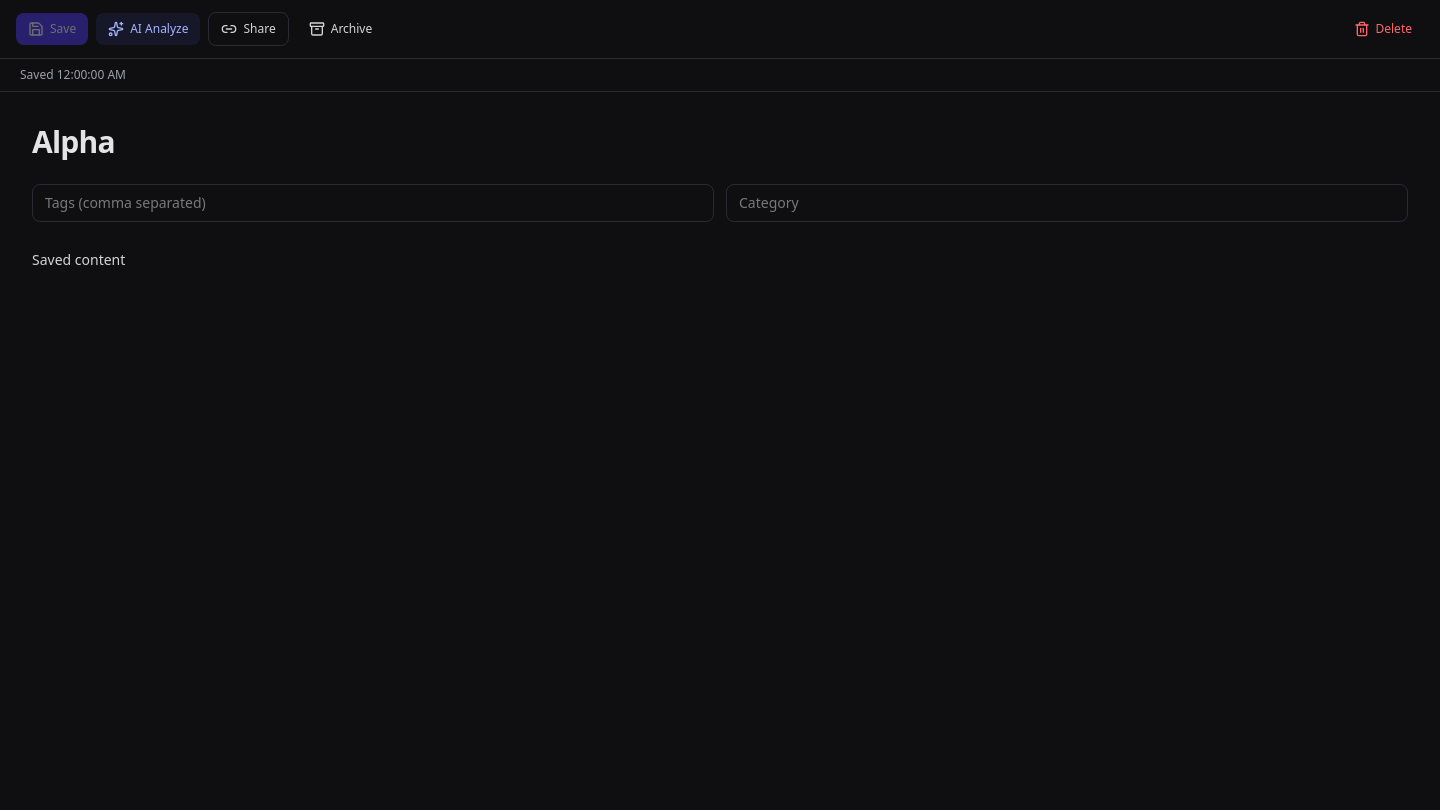
Test case: editor regression checks › keeps drafts and displays a failed save inline
The width and height of the screenshot is (1440, 810).
Replace the text in the text box named "Note content" with "Keep this draft" at (720, 426), box [32,246,1408,606]
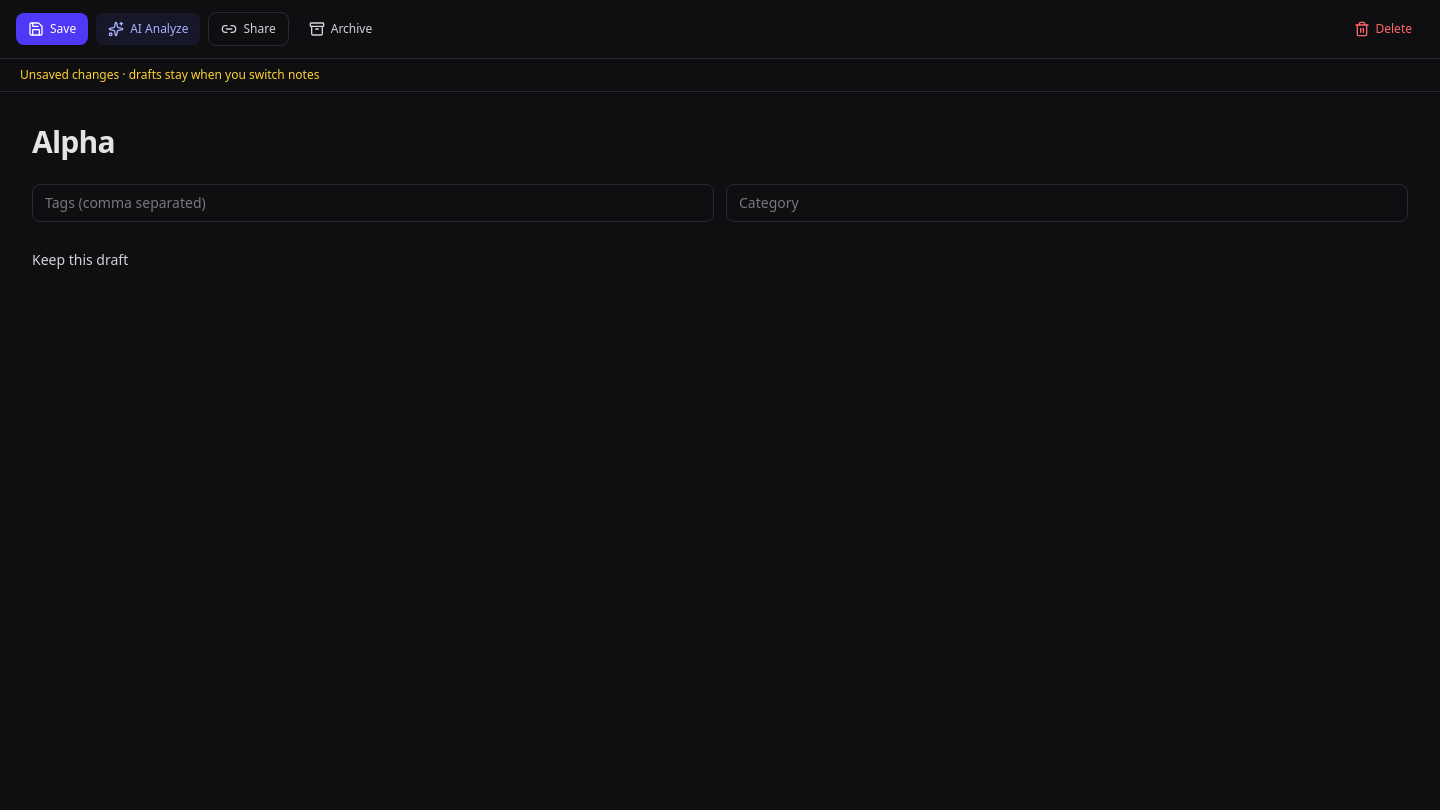
Click the button "Save".
click(52, 29)  # box [16,13,88,45]
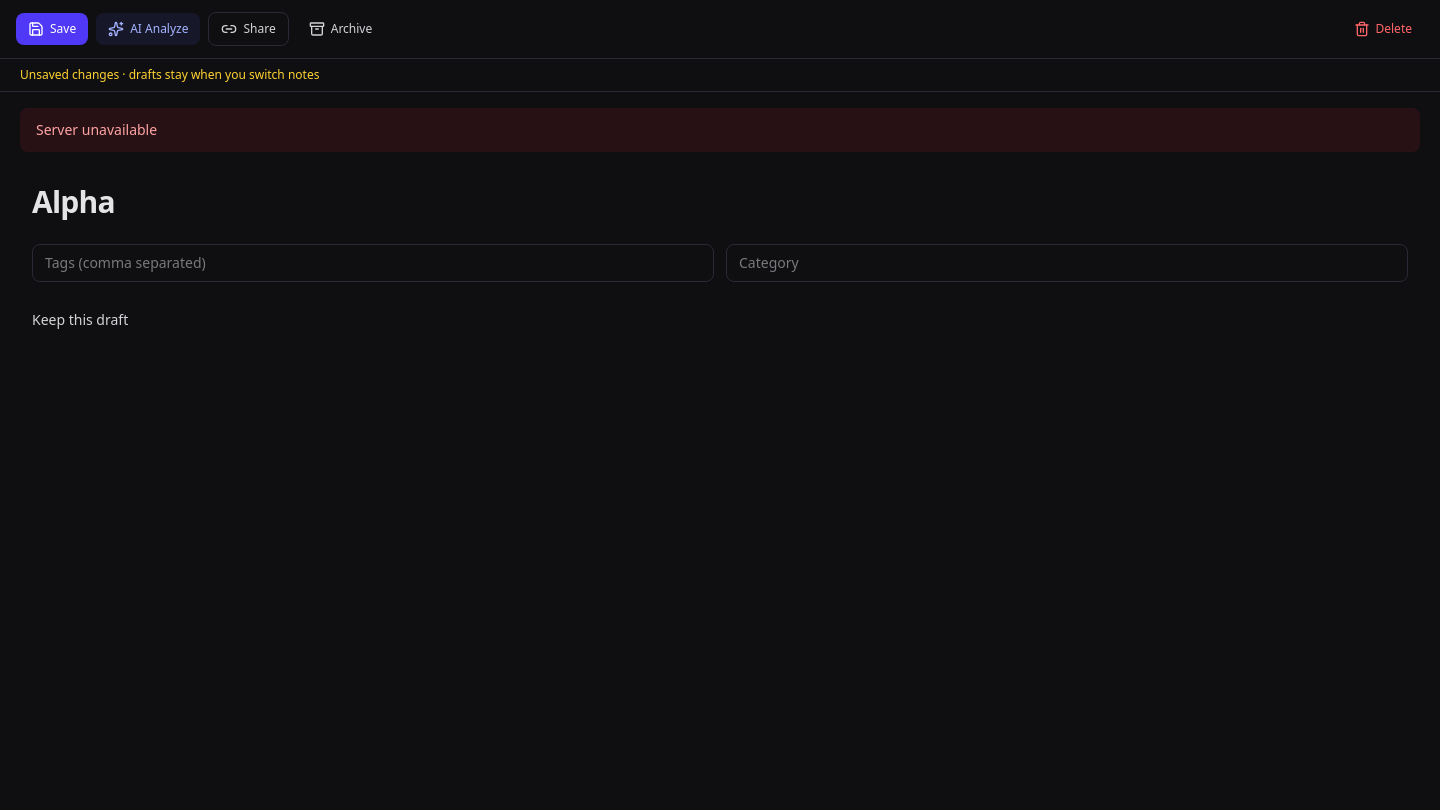
Result: the message "Server unavailable" is shown at [20,108,1420,152]
